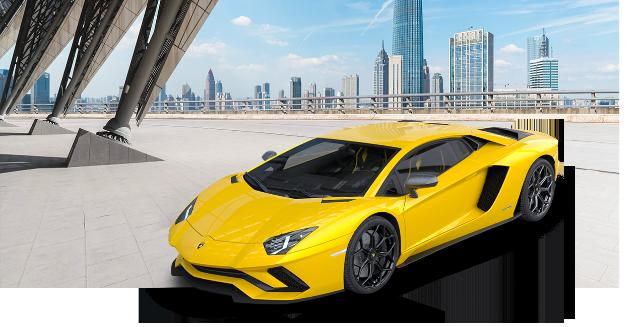lamborghini: (168, 122, 560, 304)
